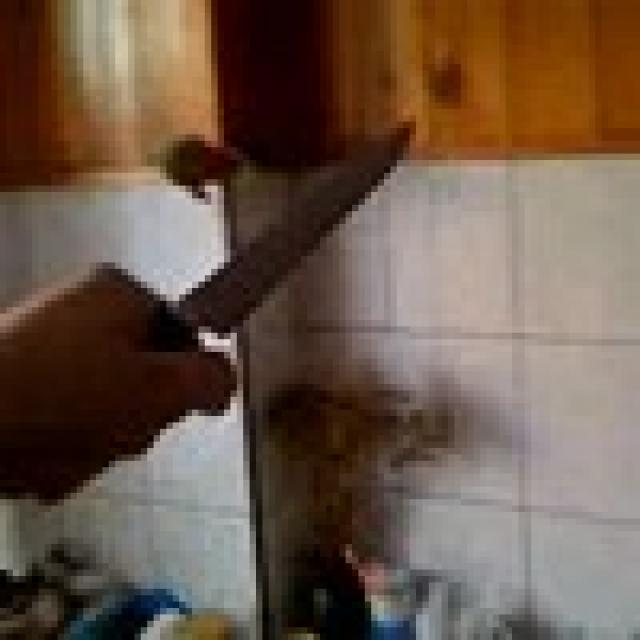Knife: (160, 109, 410, 378)
